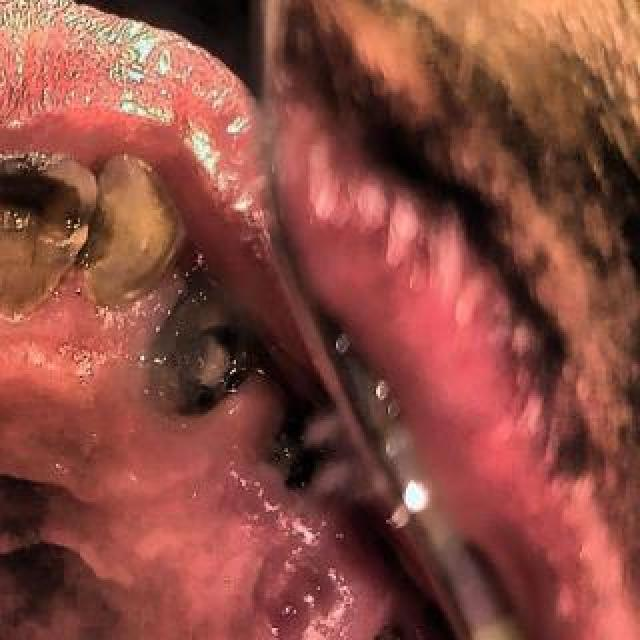cavities: (0, 140, 122, 312), (155, 311, 281, 429), (248, 425, 360, 523), (242, 616, 506, 640)
missing: (228, 508, 408, 636)
spacing: (143, 215, 215, 351)
